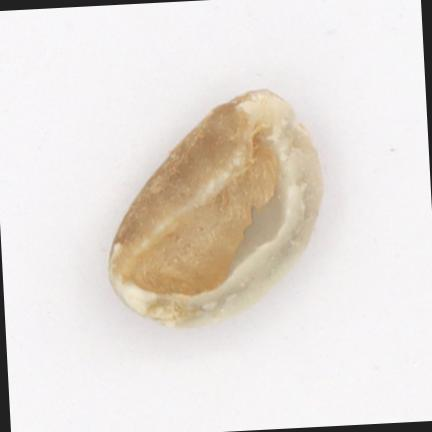broken: (109, 90, 321, 326)
